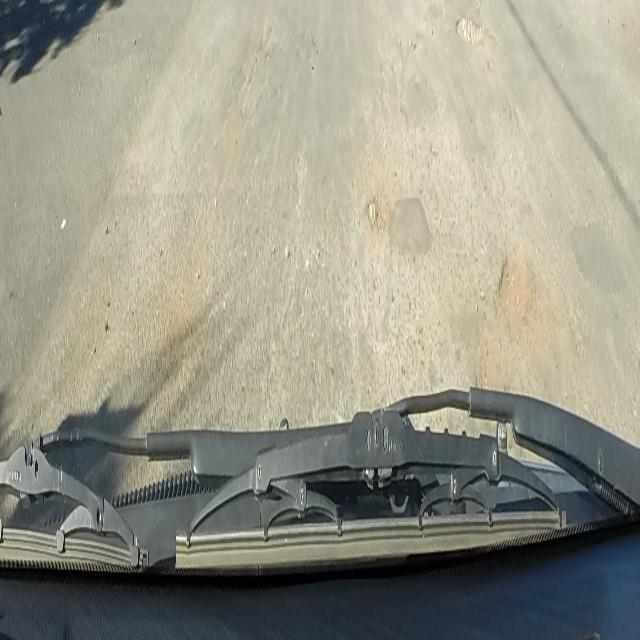pothole: (498, 242, 528, 332), (456, 10, 486, 50)
